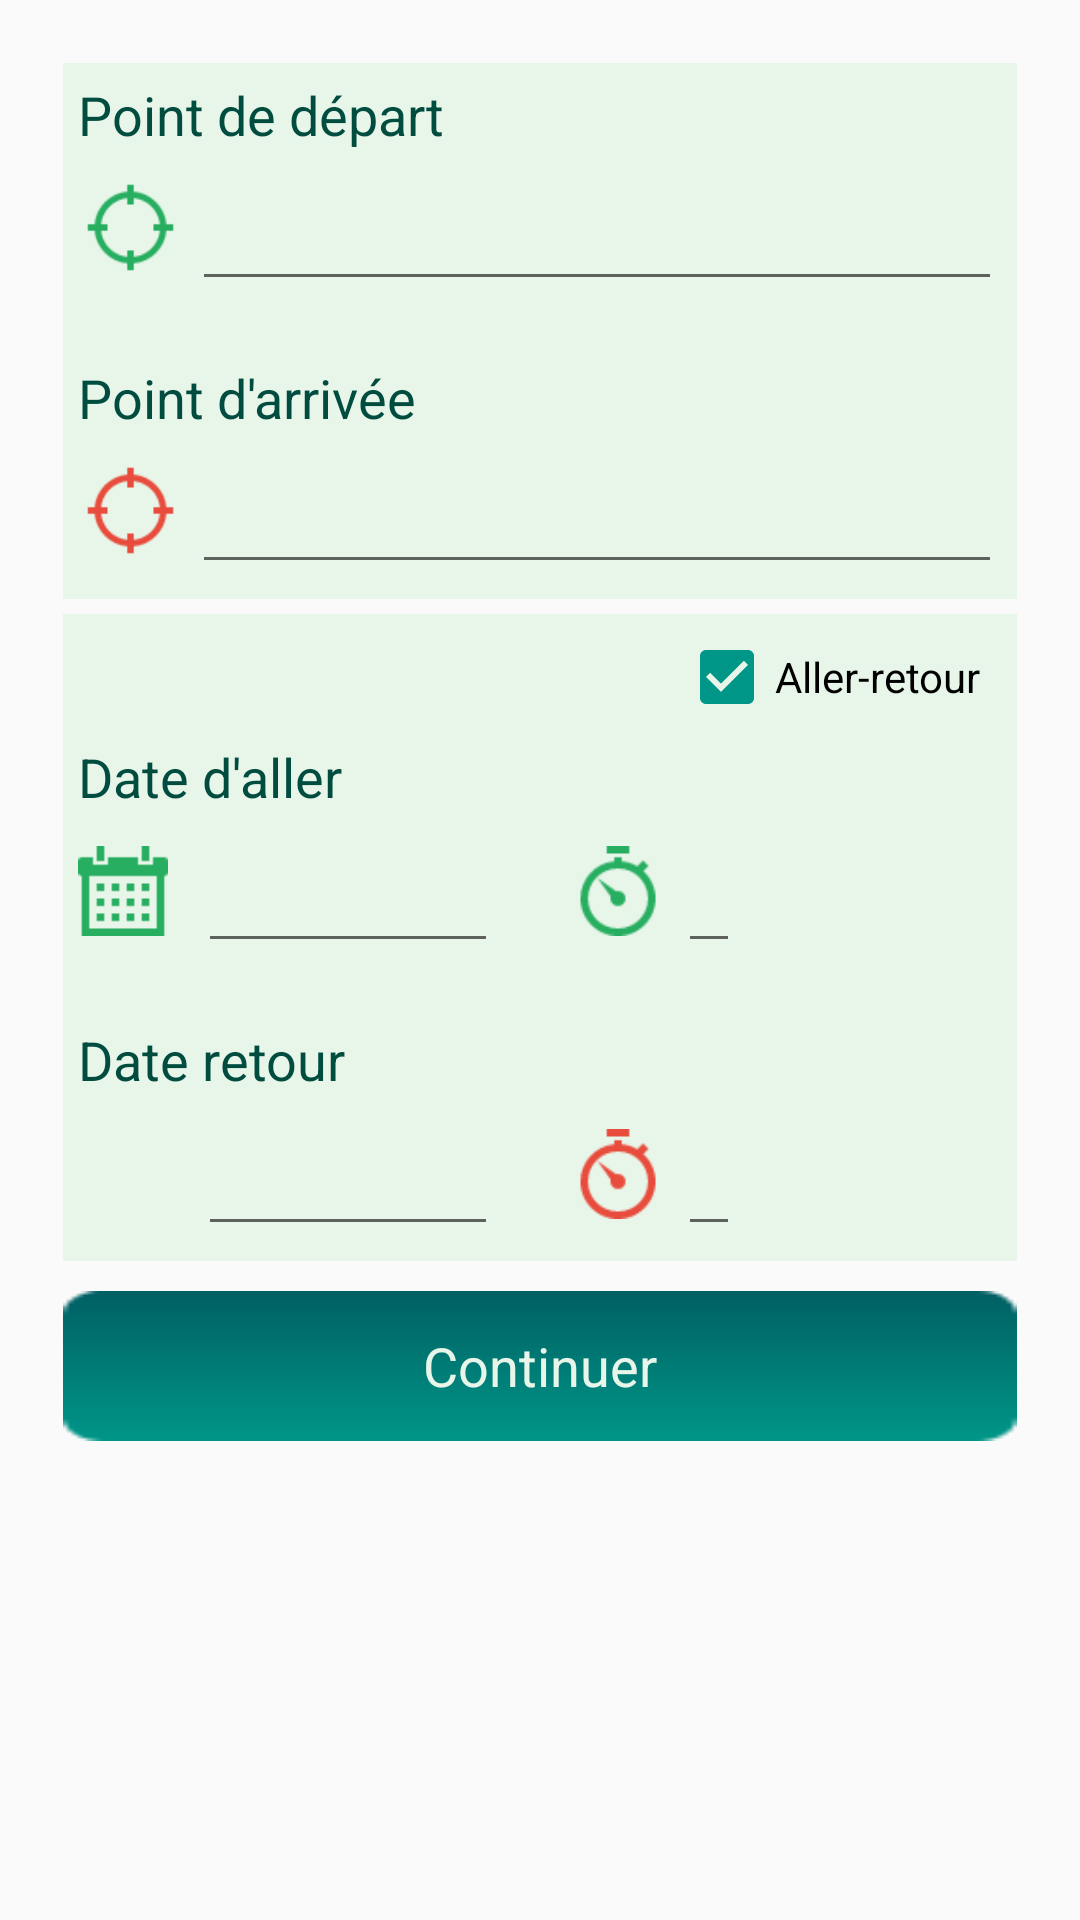

Named icons in this screenshot (1080 x 1920) and their bounding boxes, (x1, y1, x2, y2):
calendrier depart: (78, 846, 168, 936)
lieu arrivee: (87, 467, 174, 554)
lieu depart: (87, 184, 174, 271)
temps arrivee: (580, 1129, 656, 1219)
temps depart: (580, 846, 656, 936)
